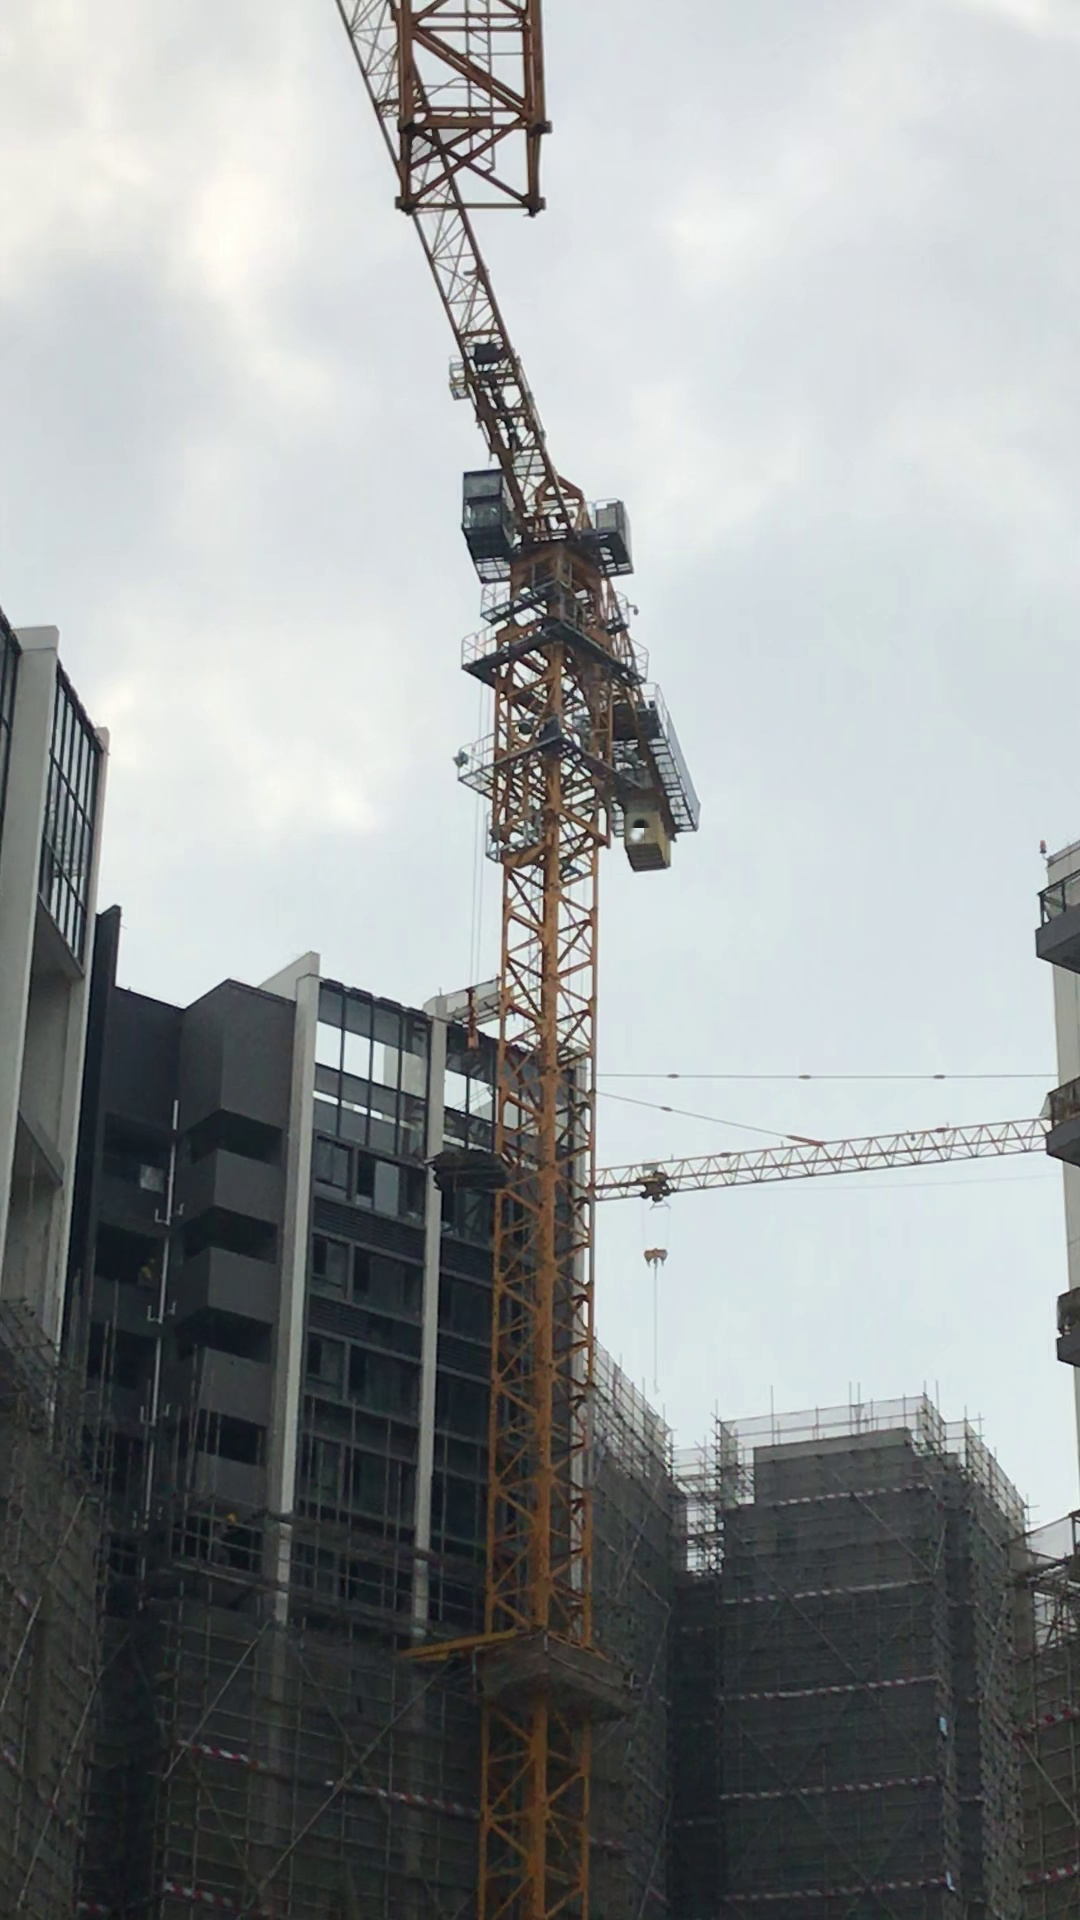hook: (640, 1245, 676, 1271)
